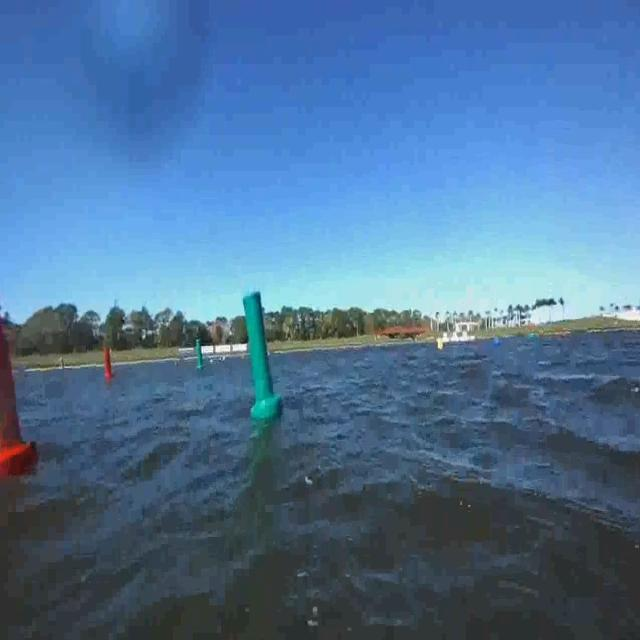blue-buoy: (493, 334, 502, 346)
green-column-buoy: (245, 286, 283, 420), (197, 340, 206, 370)
red-column-buoy: (0, 312, 36, 480), (104, 347, 115, 380)
yellow-buoy: (436, 338, 444, 354)
